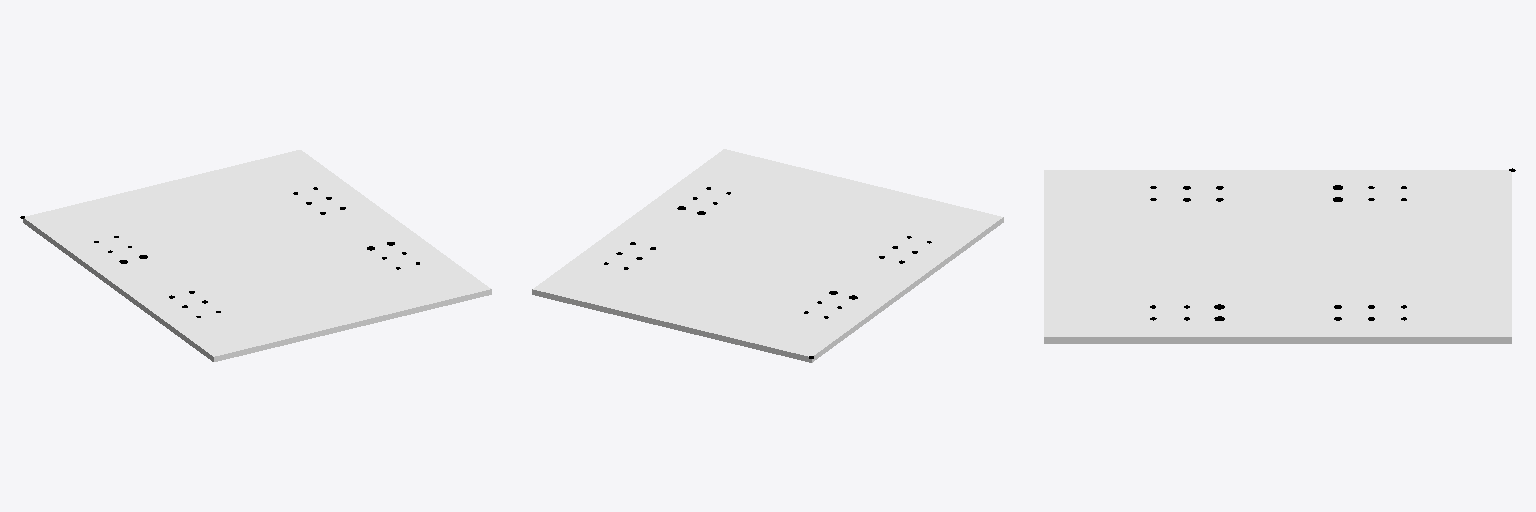
The robot description file, URDF, robot "plaque-tubes":
<robot name="plaque-tubes">

  <material name="black">
    <color rgba="0 0 0 1.0"/>
  </material>

  <material name="white">
    <color rgba="1 1 1 1.0"/>
  </material>

  <material name="red">
    <color rgba="1 0 0 1.0"/>
  </material>
  
  <link name="plaque_link">
    <visual>
      <origin xyz="0.129 -0.1535 -0.0025" rpy="0 0 0" />
      <geometry>
        <box size="0.258 0.307 0.005"/>
      </geometry>
        <material name="white">
          <color rgba="1 1 1 1"/>
        </material>
    </visual>
    <collision>
      <origin xyz="-0.129 -0.1535 -0.0025" rpy="0 0 0" />
      <geometry>
        <box size="0.258 0.307 0.005"/>
      </geometry>
    </collision>
    <inertial>
      <mass value="2.2"/>
       <origin xyz="-0.129 -0.1535 -0.0025" rpy="0 0 0" />
      <inertia ixx="0.1"  ixy="0"  ixz="0" iyy="0.1" iyz="0" izz="0.1" />
    </inertial>
  </link>

  <joint name="plaque_joint" type="fixed">
    <parent link="base_link"/>
    <child link="plaque_link"/>
    <origin xyz="0 0 0" rpy="0 0 0"/>
  </joint>

  <link name="base_link"/>
  
   <link name="hole_ref_link">
    <visual>
        <geometry>
            <cylinder radius="0.002" length="0.001" />
        </geometry>
        <material name="black">
          <color rgba="0 0 0 1"/>
        </material>
    </visual>
  </link>
  <joint name="to_hole_ref" type="fixed">
    <parent link="plaque_link" />
    <child link="hole_ref_link" />
    <origin xyz="0 0 0" rpy="0 0 0" />
  </joint>

<!-- Top left -->
  <link name="hole_00_link">
    <visual>
        <geometry>
            <cylinder radius="0.002" length="0.001" />
        </geometry>
        <material name="black">
          <color rgba="0 0 0 1"/>
        </material>
    </visual>
  </link>
  <joint name="to_hole_00" type="fixed">
    <parent link="plaque_link" />
    <child link="hole_00_link" />
    <origin xyz="0.0275 -0.071 0" rpy="0 0 0" />
  </joint>

  <link name="hole_01_link">
    <visual>
        <geometry>
            <cylinder radius="0.002" length="0.001" />
        </geometry>
        <material name="black">
          <color rgba="0 0 0 1"/>
        </material>
    </visual>
  </link>
  <joint name="to_hole_01" type="fixed">
    <parent link="plaque_link" />
    <child link="hole_01_link" />
    <origin xyz="0.046 -0.071  0" rpy="0 0 0" />
  </joint>
  
  <link name="hole_03_link">
    <visual>
        <geometry>
            <cylinder radius="0.002" length="0.001" />
        </geometry>
        <material name="black">
          <color rgba="0 0 0 1"/>
        </material>
    </visual>
  </link>
  <joint name="to_hole_03" type="fixed">
    <parent link="plaque_link" />
    <child link="hole_03_link" />
    <origin xyz="0.0275 -0.0925 0" rpy="0 0 0" />
  </joint>
  
    <link name="hole_04_link">
    <visual>
        <geometry>
            <cylinder radius="0.002" length="0.001" />
        </geometry>
        <material name="black">
          <color rgba="0 0 0 1"/>
        </material>
    </visual>
  </link>
  <joint name="to_hole_04" type="fixed">
    <parent link="plaque_link" />
    <child link="hole_04_link" />
    <origin xyz=" 0.046 -0.0925 0" rpy="0 0 0" />
  </joint>

  <link name="hole_05_link">
    <visual>
        <geometry>
            <cylinder radius="0.0035" length="0.001" />
        </geometry>
        <material name="black">
          <color rgba="0 0 0 1"/>
        </material>
    </visual>
  </link>
  <joint name="to_hole_05" type="fixed">
    <parent link="plaque_link" />
    <child link="hole_05_link" />
    <origin xyz="0.0275 -0.1145 0" rpy="0 0 0" />
  </joint>

  <link name="hole_02_link">
    <visual>
        <geometry>
            <cylinder radius="0.0035" length="0.001" />
        </geometry>
        <material name="black">
          <color rgba="0 0 0 1"/>
        </material>
    </visual>
  </link>
  <joint name="to_hole_02" type="fixed">
    <parent link="plaque_link" />
    <child link="hole_02_link" />
    <origin xyz="0.046 -0.1145 0" rpy="0 0 0" />
  </joint>  
  
  <!-- Top right -->
  <link name="hole_06_link">
    <visual>
        <geometry>
            <cylinder radius="0.002" length="0.001" />
        </geometry>
        <material name="black">
          <color rgba="0 0 0 1"/>
        </material>
    </visual>
  </link>
  <joint name="to_hole_06" type="fixed">
    <parent link="plaque_link" />
    <child link="hole_06_link" />
    <origin xyz=" 0.2125 -0.071 0" rpy="0 0 0" />
  </joint>

  <link name="hole_07_link">
    <visual>
        <geometry>
            <cylinder radius="0.002" length="0.001" />
        </geometry>
        <material name="black">
          <color rgba="0 0 0 1"/>
        </material>
    </visual>
  </link>
  <joint name="to_hole_07" type="fixed">
    <parent link="plaque_link" />
    <child link="hole_07_link" />
    <origin xyz="0.231 -0.071 0" rpy="0 0 0" />
  </joint>      

  <link name="hole_08_link">
    <visual>
        <geometry>
            <cylinder radius="0.0025" length="0.001" />
        </geometry>
        <material name="black">
          <color rgba="0 0 0 1"/>
        </material>
    </visual>
  </link>
  <joint name="to_hole_08" type="fixed">
    <parent link="plaque_link" />
    <child link="hole_08_link" />
    <origin xyz="0.2125 -0.0925 0" rpy="0 0 0" />
  </joint>
  
  <link name="hole_09_link">
    <visual>
        <geometry>
            <cylinder radius="0.0025" length="0.001" />
        </geometry>
        <material name="black">
          <color rgba="0 0 0 1"/>
        </material>
    </visual>
  </link>
  <joint name="to_hole_09" type="fixed">
    <parent link="plaque_link" />
    <child link="hole_09_link" />
    <origin xyz="0.231 -0.0925 0" rpy="0 0 0" />
  </joint>     
  
  <link name="hole_10_link">
    <visual>
        <geometry>
            <cylinder radius="0.0025" length="0.001" />
        </geometry>
        <material name="black">
          <color rgba="0 0 0 1"/>
        </material>
    </visual>
  </link>
  <joint name="to_hole_10" type="fixed">
    <parent link="plaque_link" />
    <child link="hole_10_link" />
    <origin xyz="0.2125 -0.1145 0" rpy="0 0 0" />
  </joint> 
  
  <link name="hole_11_link">
    <visual>
        <geometry>
            <cylinder radius="0.0025" length="0.001" />
        </geometry>
        <material name="black">
          <color rgba="0 0 0 1"/>
        </material>
    </visual>
  </link>
  <joint name="to_hole_11" type="fixed">
    <parent link="plaque_link" />
    <child link="hole_11_link" />
    <origin xyz="0.231 -0.1145 0" rpy="0 0 0" />
  </joint>   
  
  <!-- Bottom left -->  
  <link name="hole_12_link">
    <visual>
        <geometry>
            <cylinder radius="0.0025" length="0.001" />
        </geometry>
        <material name="black">
          <color rgba="0 0 0 1"/>
        </material>
    </visual>
  </link>
  <joint name="to_hole_12" type="fixed">
    <parent link="plaque_link" />
    <child link="hole_12_link" />
    <origin xyz="0.0275 -0.192 0" rpy="0 0 0" />
  </joint>  
  
  <link name="hole_13_link">
    <visual>
        <geometry>
            <cylinder radius="0.0025" length="0.001" />
        </geometry>
        <material name="black">
          <color rgba="0 0 0 1"/>
        </material>
    </visual>
  </link>
  <joint name="to_hole_13" type="fixed">
    <parent link="plaque_link" />
    <child link="hole_13_link" />
    <origin xyz="0.046 -0.192 0" rpy="0 0 0" />
  </joint> 
  
  <link name="hole_14_link">
    <visual>
        <geometry>
            <cylinder radius="0.0025" length="0.001" />
        </geometry>
        <material name="black">
          <color rgba="0 0 0 1"/>
        </material>
    </visual>
  </link>
  <joint name="to_hole_14" type="fixed">
    <parent link="plaque_link" />
    <child link="hole_14_link" />
    <origin xyz="0.0275 -0.2135 0" rpy="0 0 0" />
  </joint>     
  
  <link name="hole_15_link">
    <visual>
        <geometry>
            <cylinder radius="0.0025" length="0.001" />
        </geometry>
        <material name="black">
          <color rgba="0 0 0 1"/>
        </material>
    </visual>
  </link>
  <joint name="to_hole_15" type="fixed">
    <parent link="plaque_link" />
    <child link="hole_15_link" />
    <origin xyz="0.046 -0.2135 0" rpy="0 0 0" />
  </joint>   
  
  <link name="hole_16_link">
    <visual>
        <geometry>
            <cylinder radius="0.002" length="0.001" />
        </geometry>
        <material name="black">
          <color rgba="0 0 0 1"/>
        </material>
    </visual>
  </link>
  <joint name="to_hole_16" type="fixed">
    <parent link="plaque_link" />
    <child link="hole_16_link" />
    <origin xyz="0.0275 -0.2355 0" rpy="0 0 0" />
  </joint>    
 
  <link name="hole_17_link">
    <visual>
        <geometry>
            <cylinder radius="0.002" length="0.001" />
        </geometry>
        <material name="black">
          <color rgba="0 0 0 1"/>
        </material>
    </visual>
  </link>
  <joint name="to_hole_17" type="fixed">
    <parent link="plaque_link" />
    <child link="hole_17_link" />
    <origin xyz="0.046 -0.2355 0" rpy="0 0 0" />
  </joint>  
    
    <!-- Bottom right -->   
  <link name="hole_18_link">
    <visual>
        <geometry>
            <cylinder radius="0.0035" length="0.001" />
        </geometry>
        <material name="black">
          <color rgba="0 0 0 1"/>
        </material>
    </visual>
  </link>
  <joint name="to_hole_18" type="fixed">
    <parent link="plaque_link" />
    <child link="hole_18_link" />
    <origin xyz="0.2125 -0.192 0" rpy="0 0 0" />
  </joint>
  
  <link name="hole_19_link">
    <visual>
        <geometry>
            <cylinder radius="0.0035" length="0.001" />
        </geometry>
        <material name="black">
          <color rgba="0 0 0 1"/>
        </material>
    </visual>
  </link>
  <joint name="to_hole_19" type="fixed">
    <parent link="plaque_link" />
    <child link="hole_19_link" />
    <origin xyz="0.231 -0.192 0" rpy="0 0 0" />
  </joint> 
  
  <link name="hole_20_link">
    <visual>
        <geometry>
            <cylinder radius="0.002" length="0.001" />
        </geometry>
        <material name="black">
          <color rgba="0 0 0 1"/>
        </material>
    </visual>
  </link>
  <joint name="to_hole_20" type="fixed">
    <parent link="plaque_link" />
    <child link="hole_20_link" />
    <origin xyz="0.2125 -0.2135 0" rpy="0 0 0" />
  </joint>  
  
  <link name="hole_21_link">
    <visual>
        <geometry>
            <cylinder radius="0.002" length="0.001" />
        </geometry>
        <material name="black">
          <color rgba="0 0 0 1"/>
        </material>
    </visual>
  </link>
  <joint name="to_hole_21" type="fixed">
    <parent link="plaque_link" />
    <child link="hole_21_link" />
    <origin xyz="0.231 -0.2135 0" rpy="0 0 0" />
  </joint>   
  
  <link name="hole_22_link">
    <visual>
        <geometry>
            <cylinder radius="0.002" length="0.001" />
        </geometry>
        <material name="black">
          <color rgba="0 0 0 1"/>
        </material>
    </visual>
  </link>
  <joint name="to_hole_22" type="fixed">
    <parent link="plaque_link" />
    <child link="hole_22_link" />
    <origin xyz="0.2125 -0.2355 0" rpy="0 0 0" />
  </joint> 
  
  <link name="hole_23_link">
    <visual>
        <geometry>
            <cylinder radius="0.002" length="0.001" />
        </geometry>
        <material name="black">
          <color rgba="0 0 0 1"/>
        </material>
    </visual>
  </link>
  <joint name="to_hole_23" type="fixed">
    <parent link="plaque_link" />
    <child link="hole_23_link" />
    <origin xyz="0.231 -0.2355 0" rpy="0 0 0" />
  </joint>               
</robot>

--- What the picture shows (computed from the rendered views, not written in the file) ---
Views: 3 orthographic renders of the robot side by side, from view 1: azimuth 30°, elevation 25°; view 2: azimuth 150°, elevation 25°; view 3: azimuth 270°, elevation 25°.
Model plaque-tubes with 27 links and 26 joints (26 fixed), rooted at base_link, posed all joints at 0.
Links seen in each view (by area): view 1: plaque_link; view 2: plaque_link; view 3: plaque_link.
Link boxes in pixels (x1,y1,x2,y2): plaque_link: (23, 150, 491, 361); plaque_link: (532, 149, 1003, 362); plaque_link: (1044, 170, 1511, 343).
Size in the robot's own frame: 0.26 by 0.309 by 0.0055 metres.
Geometry: primitives only (box / cylinder / sphere), no mesh files.